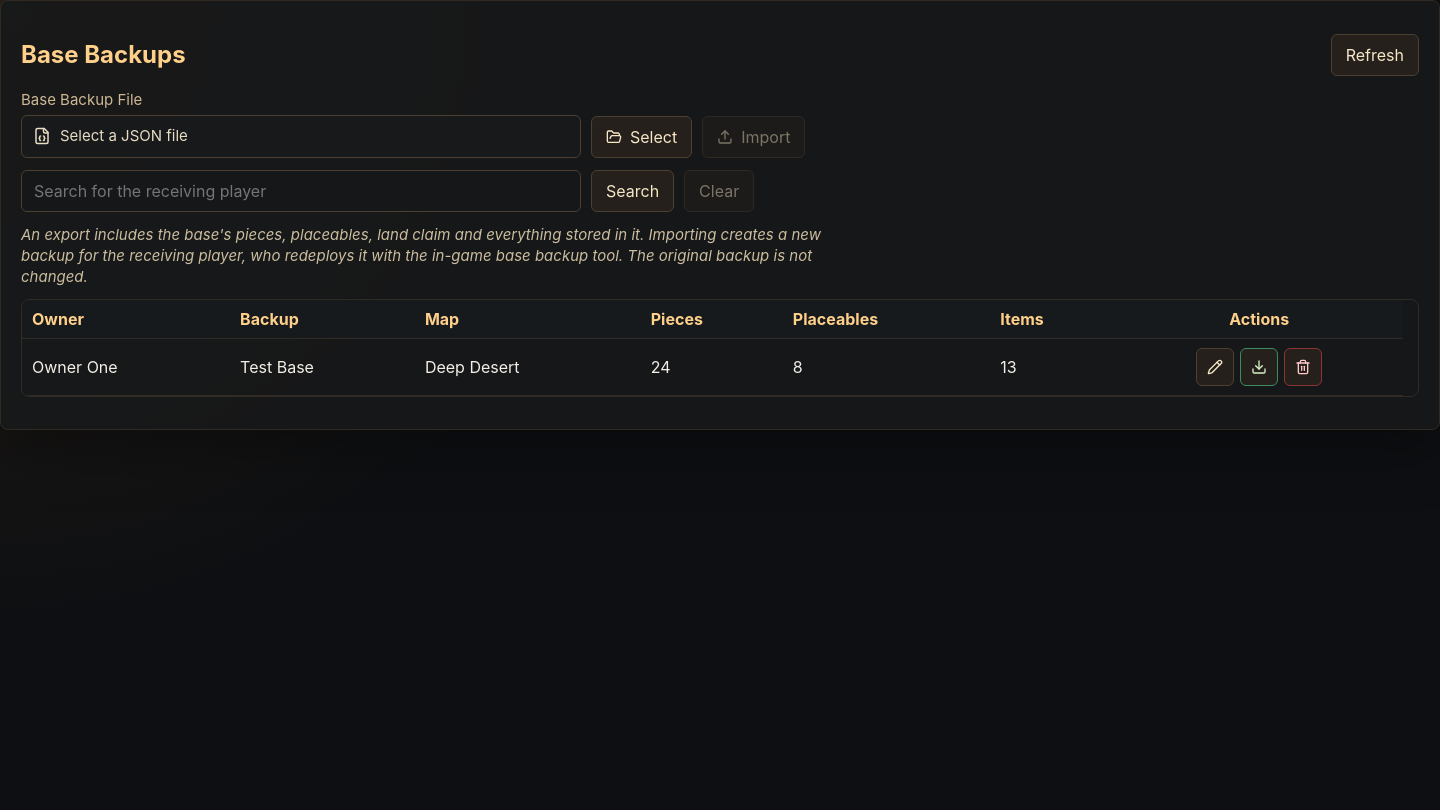
it: BaseBackupsView › shows an export timeout instead of a generic download failure
Click the button named "Export Test Base" at (1259, 367), box [1240,348,1278,386]
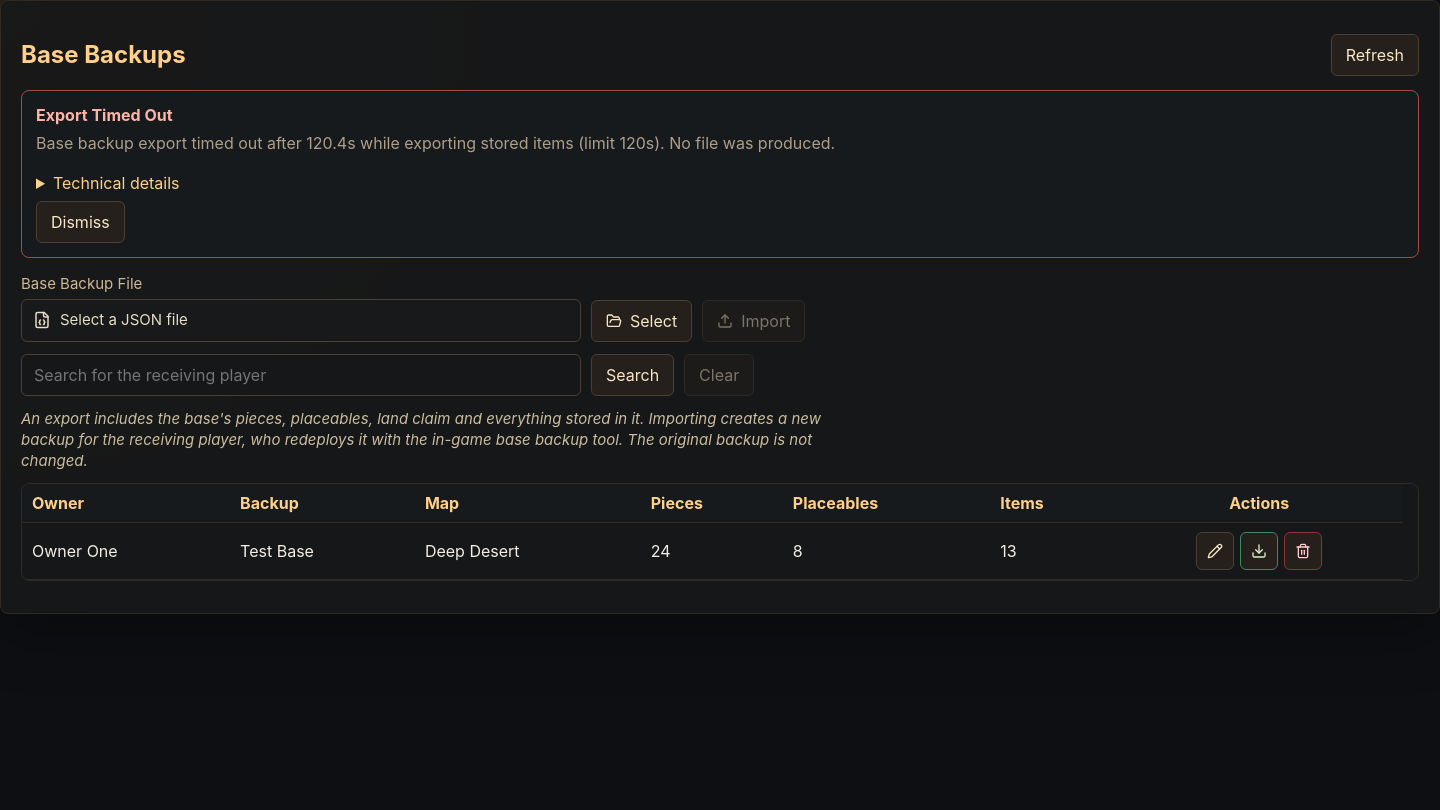
Expected: the text "Export Timed Out" is shown, [36,105,172,125]
Expected: the text "No file was produced" is shown, [36,133,835,153]
